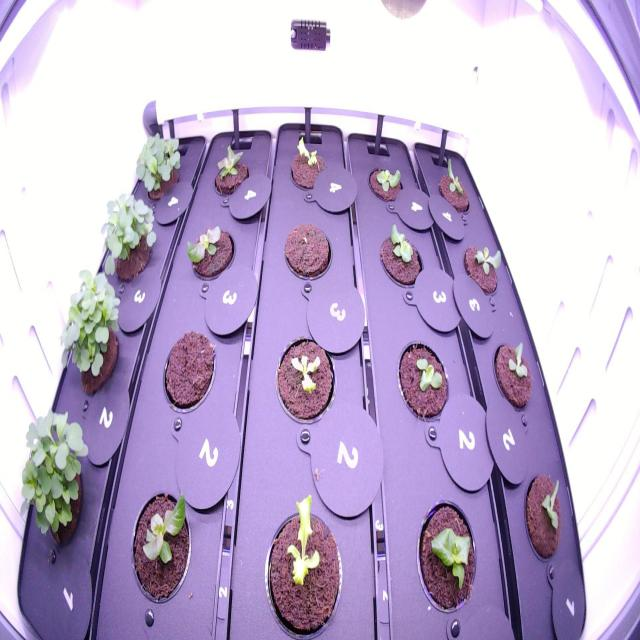germination: (14, 397, 94, 565), (55, 261, 126, 404), (96, 181, 164, 293), (134, 126, 187, 207)
pod: (158, 320, 220, 420), (279, 215, 335, 293)
young: (257, 488, 351, 637), (124, 481, 196, 627), (406, 496, 481, 622), (266, 324, 338, 435), (393, 331, 455, 430), (519, 463, 568, 576), (490, 327, 537, 420), (183, 215, 238, 291), (377, 216, 427, 297), (460, 230, 511, 302), (282, 132, 327, 200), (432, 150, 477, 217), (210, 138, 253, 206), (364, 156, 409, 214)
